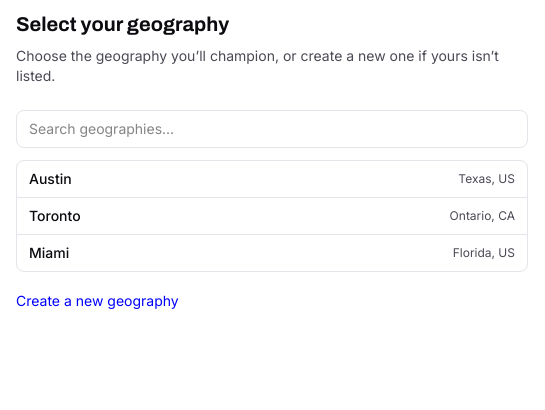
Test: GeographyPicker › cancels create mode and returns to select
Click the button "Create a new geography" at (97,301), box [16,291,179,311]
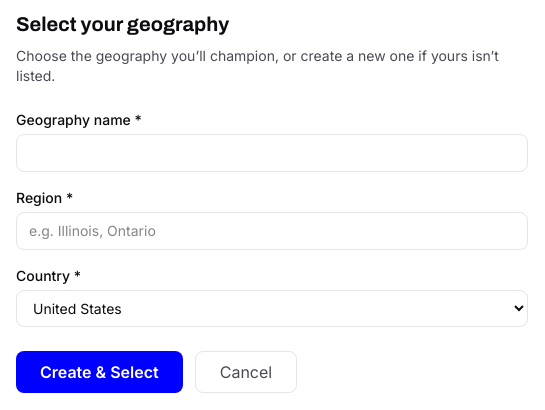
expect the field labelled "Geography name *" is shown: met, box [16,134,528,172]
Click the button "Cancel" at (246,372), box [195,351,297,393]
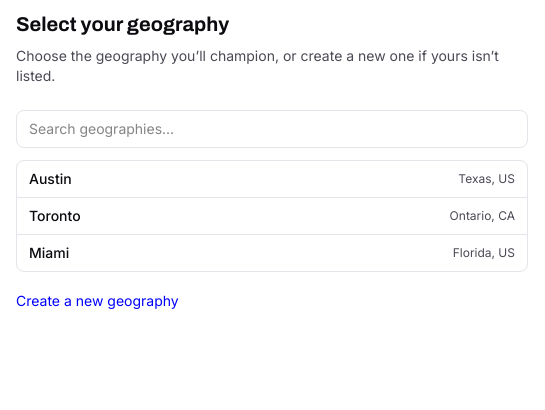
expect the field with placeholder "Search geographies..." is shown: met, box [16,110,528,148]
